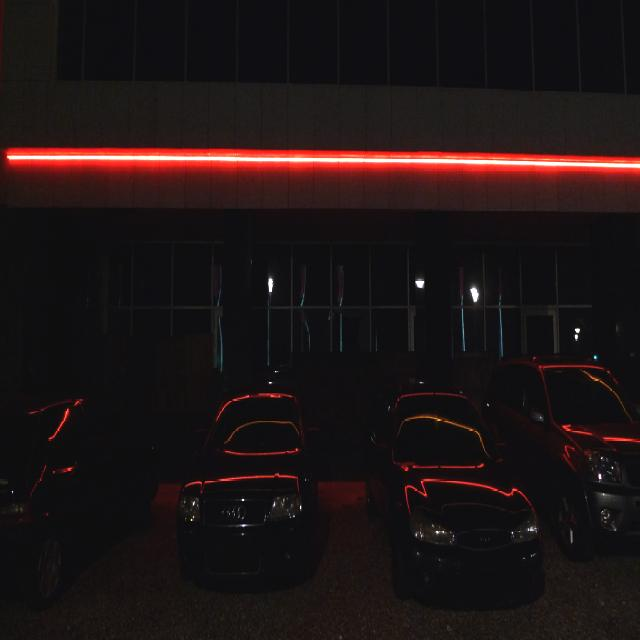Car: (373, 388, 542, 603), (507, 344, 640, 561), (171, 385, 318, 576)
